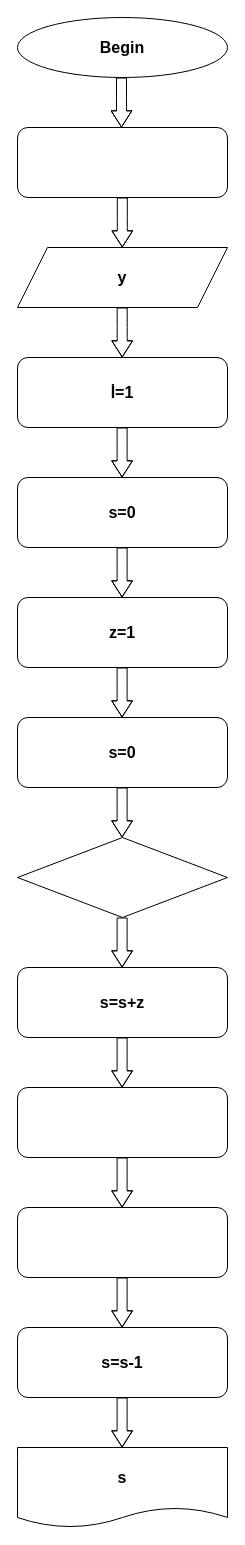
The diagram is 245 pixels wide and 1545 high, and some of its shapes have lost their labels. Each missing label, with the centre of its shape:
eps=0.01: (122,162)
i=i+2: (122,1122)
IzI>eps: (122,877)
z=(i*x)/i: (122,1242)
